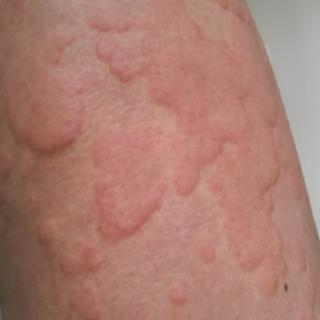urticaria: (21, 9, 320, 320)
